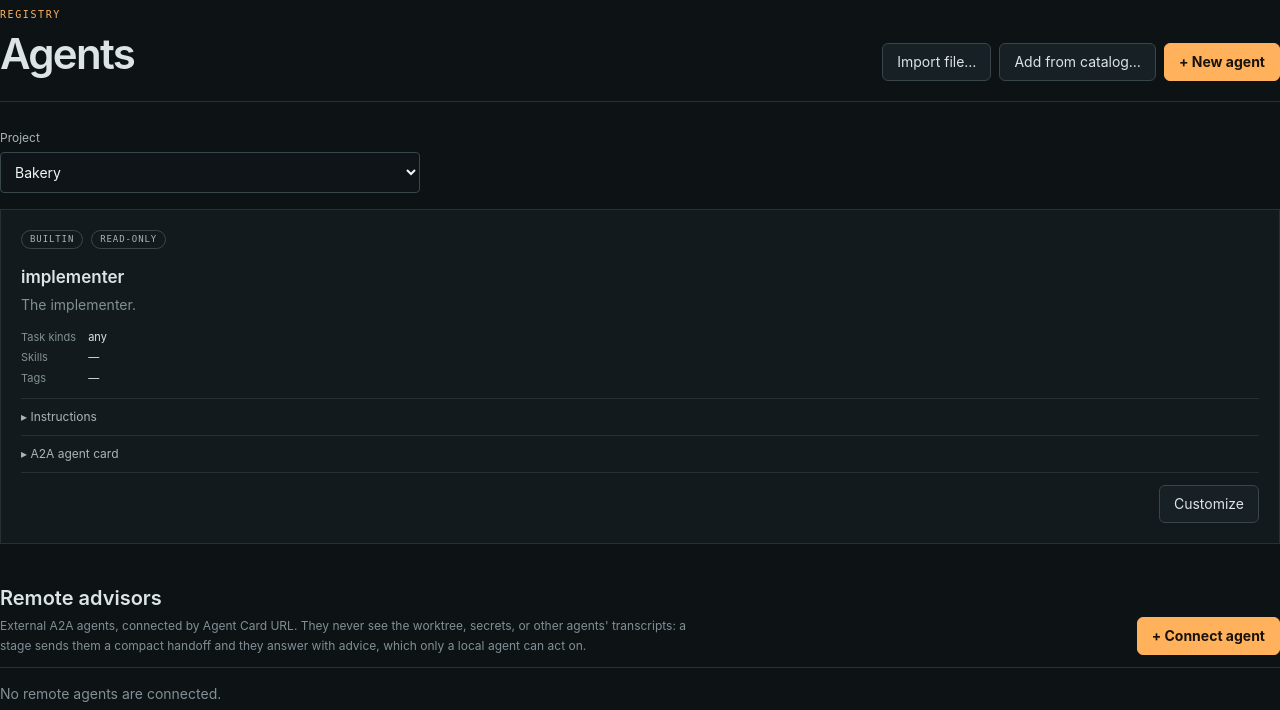
it: AgentsView › adds an agent from the catalog globally, and lists it like any other
Expected: the element "implementer" is shown, [0, 208, 1279, 544]
Click the button "Add from catalog…" at coordinates (1078, 62), box [999, 42, 1156, 80]
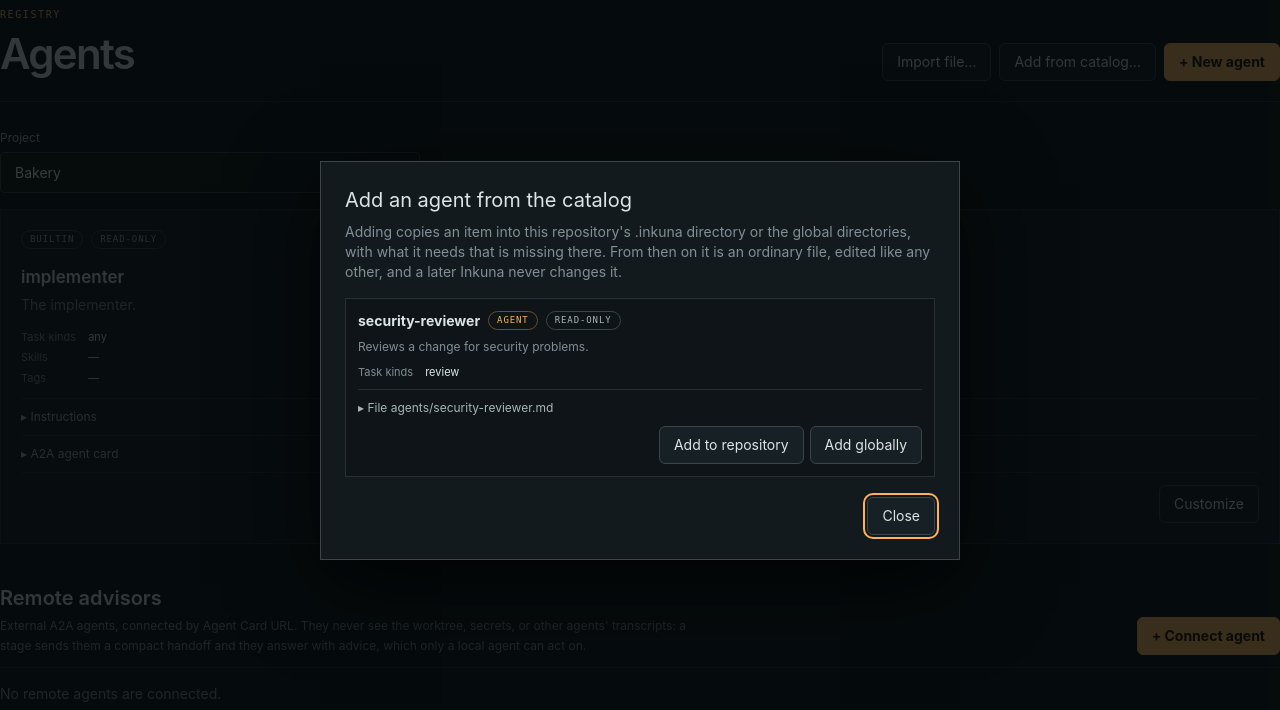
Result: the button with aria-label "Add security-reviewer to the repository" is enabled at [659, 426, 804, 464]
Click the button with aria-label "Add security-reviewer globally" at coordinates (866, 444), box [810, 426, 922, 464]
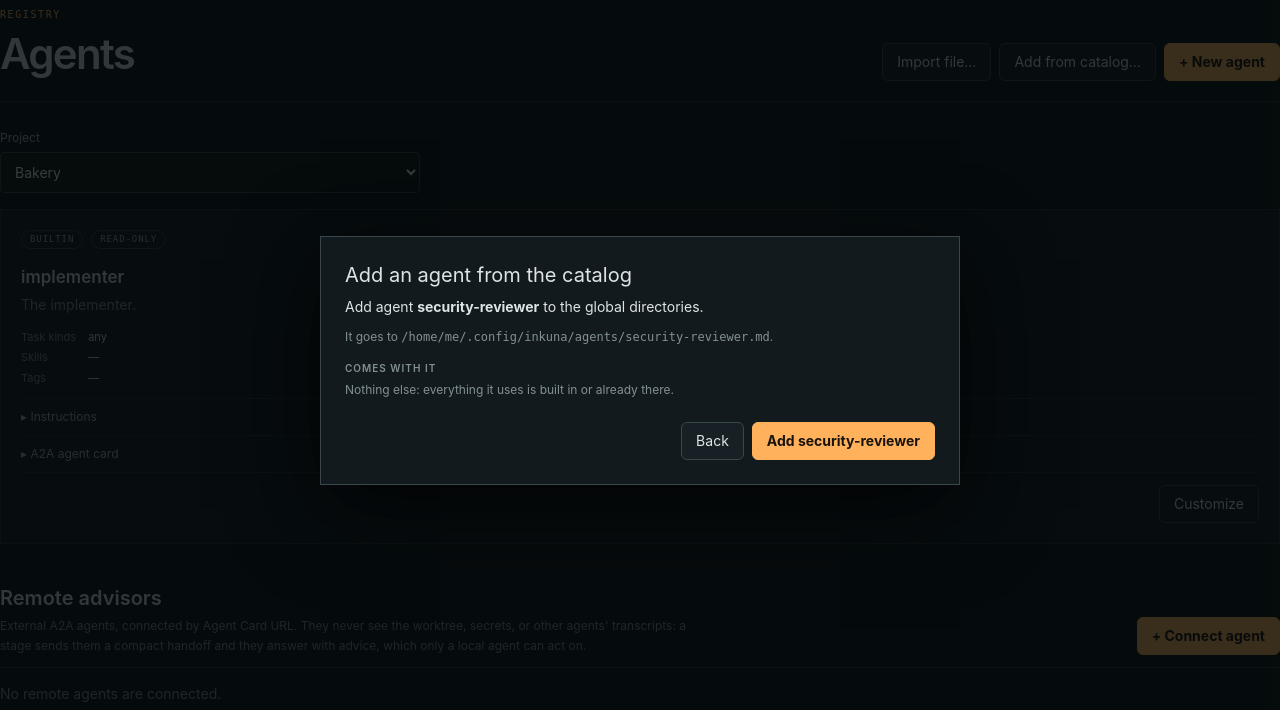
Click the button "Add security-reviewer" at coordinates (843, 440), box [752, 422, 935, 460]
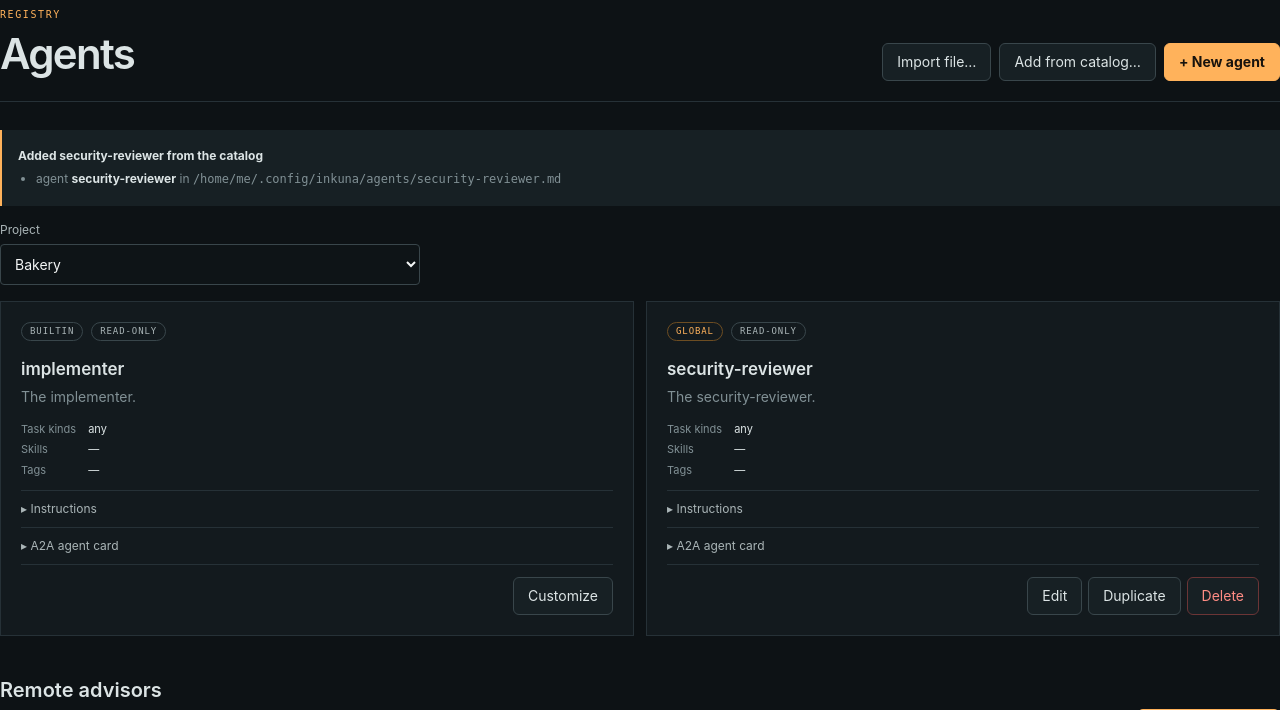
Result: the message shows "Added security-reviewer from the catalog" at [18, 148, 263, 162]
Result: the button with aria-label "Edit security-reviewer" is shown at [1027, 577, 1082, 615]
